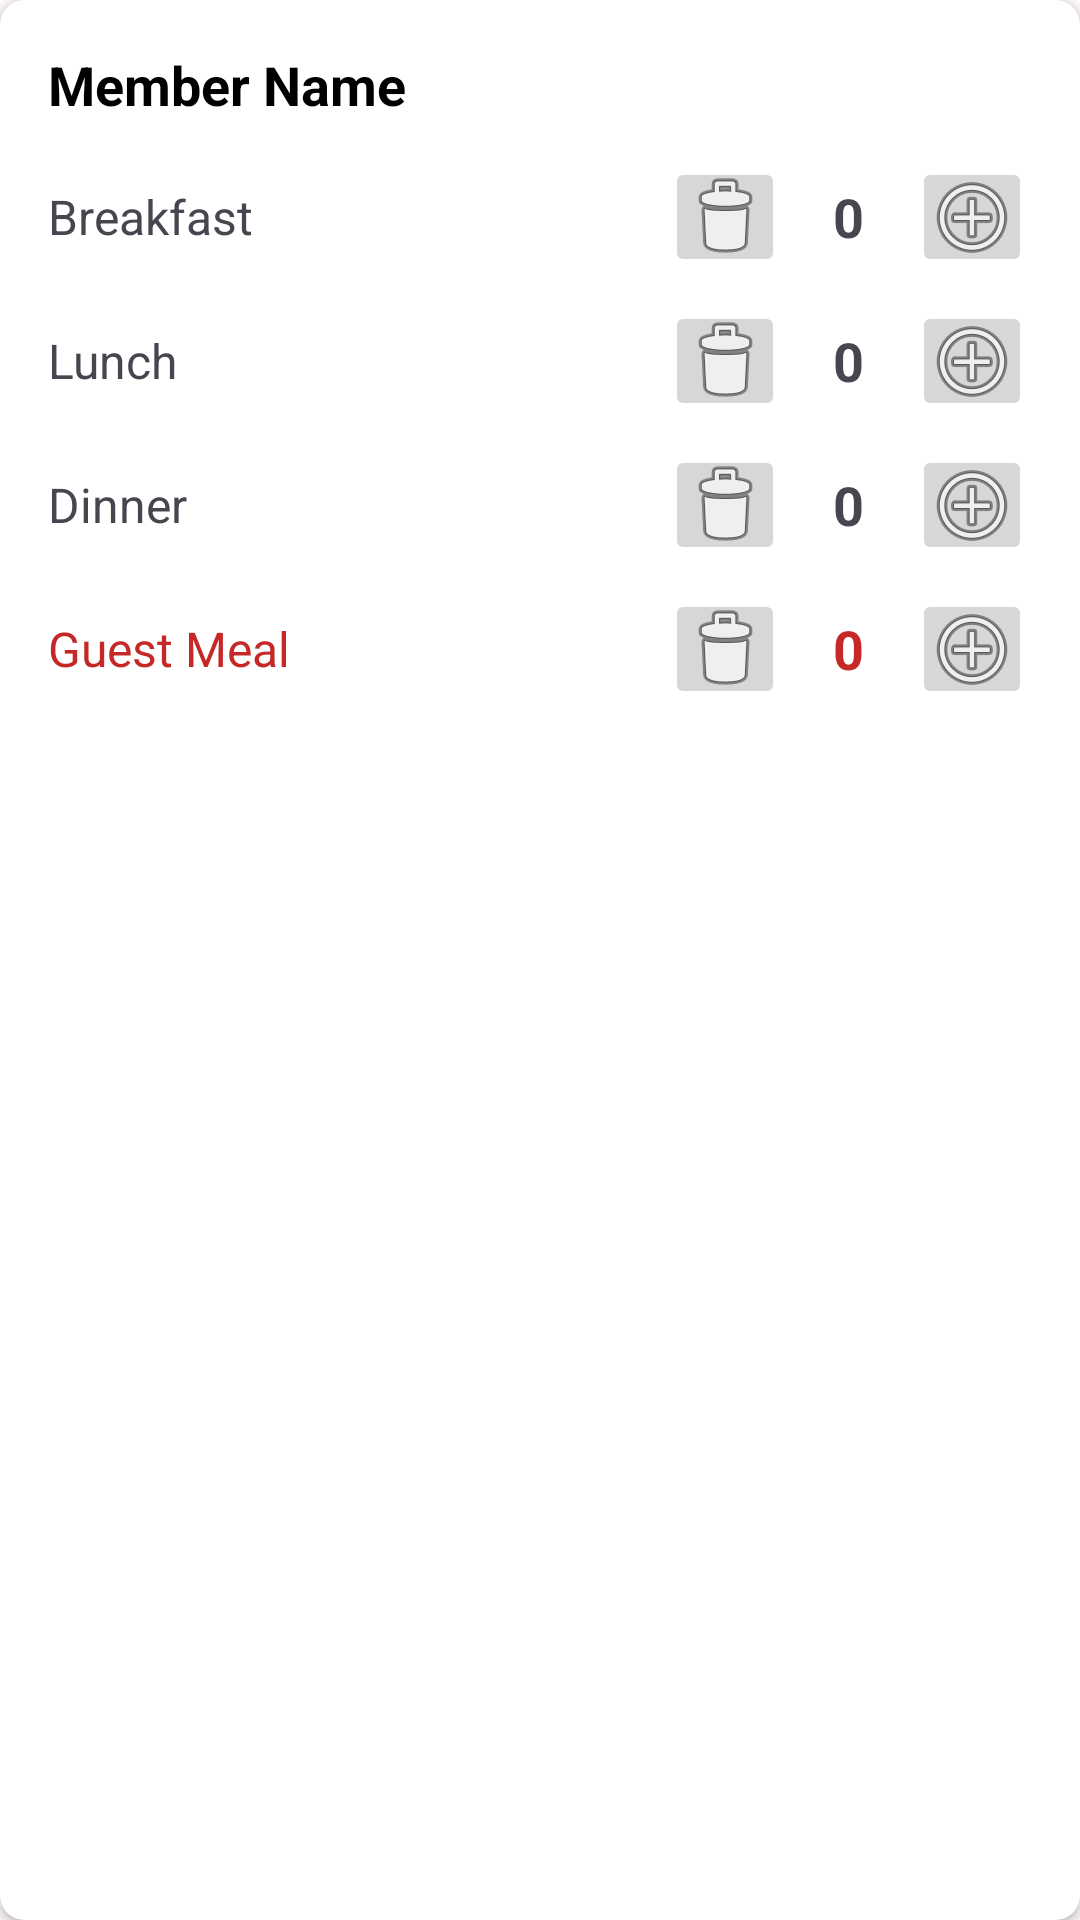

Named icons in this screenshot (1080 x 1920) and their bounding boxes, [x1,y1,x2,y2]:
add: [924,175,1020,259], [924,319,1020,403], [924,463,1020,547], [924,607,1020,691]
delete: [677,175,773,259], [677,319,773,403], [677,463,773,547], [677,607,773,691]
